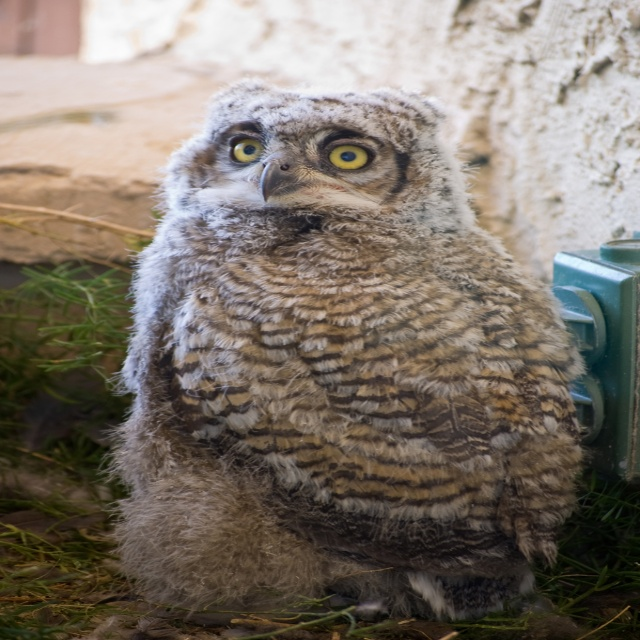Owl: (102, 79, 595, 623)
